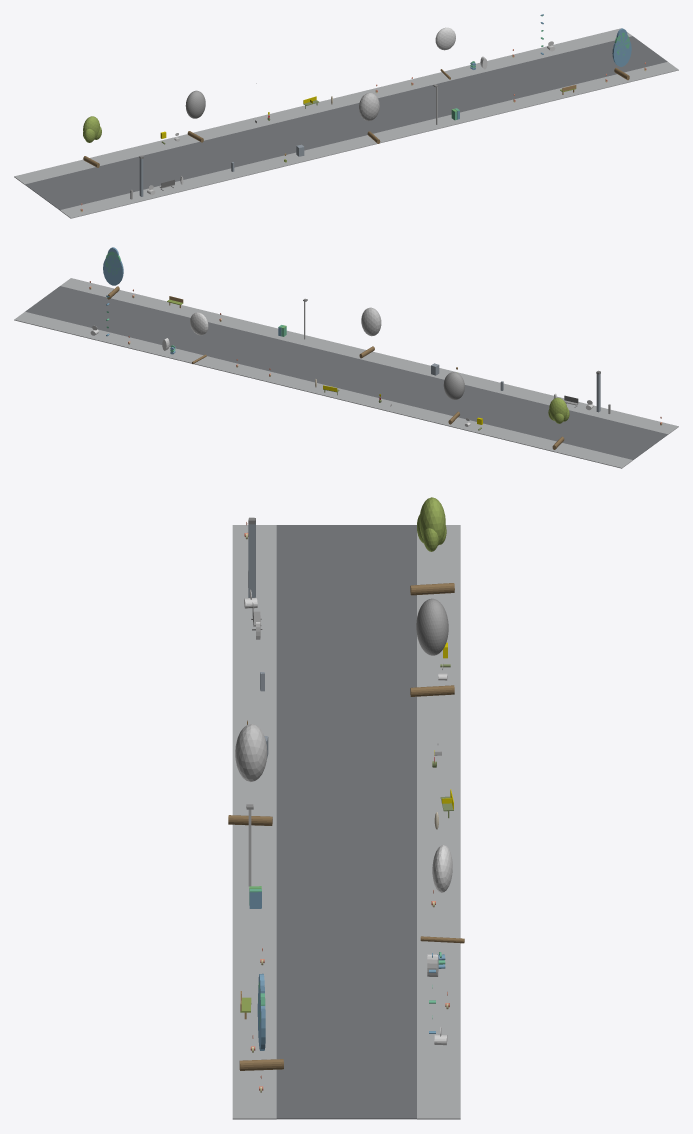
3 views of the same model, one above another, from view 1: azimuth 30°, elevation 25°; view 2: azimuth 150°, elevation 25°; view 3: azimuth 270°, elevation 25° (orthographic). The views are drawn at different scales.
Visible parts, largest first — view 1: road_slab, sidewalk_left, sidewalk_right, inst_0016, inst_0014, inst_0013, inst_0012, inst_0015; view 2: road_slab, sidewalk_right, sidewalk_left, inst_0016, inst_0014, inst_0013, inst_0012, inst_0015; view 3: road_slab, sidewalk_left, sidewalk_right, inst_0013, inst_0014, inst_0012, inst_0016, inst_0015.
Boxes of the visible parts, x1,y1,x2,y2 form: road_slab: (25,36,667,210); sidewalk_left: (60,62,678,218); sidewalk_right: (14,28,632,184); inst_0016: (612,28,631,80); inst_0014: (359,92,380,143); inst_0013: (185,90,205,142); inst_0012: (83,116,101,167); inst_0015: (435,27,455,79); road_slab: (25,286,667,459); sidewalk_right: (14,311,632,468); sidewalk_left: (60,278,678,434); inst_0016: (103,247,123,299); inst_0014: (359,307,381,358); inst_0013: (443,372,464,424); inst_0012: (548,397,569,449); inst_0015: (190,312,208,363); road_slab: (276,525,416,1119); sidewalk_left: (232,525,276,1119); sidewalk_right: (417,525,460,1119); inst_0013: (410,598,454,696); inst_0014: (228,724,272,825); inst_0012: (410,497,454,595); inst_0016: (239,973,283,1070); inst_0015: (420,845,464,943).
Bounding box in the file's own units: 80 × 6.08 × 13.47.
